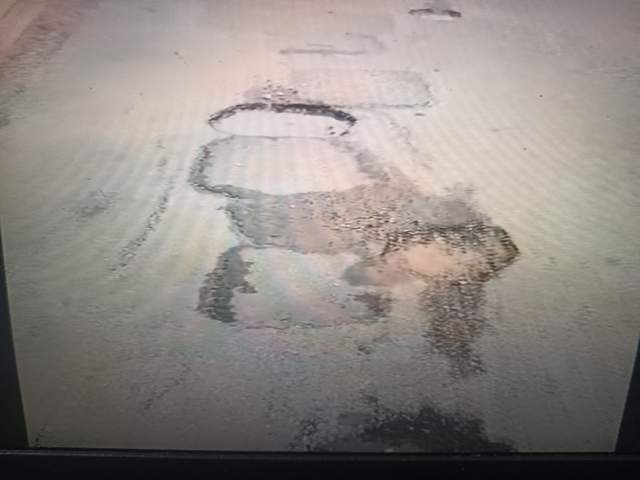pothole: (110, 403, 331, 480)
